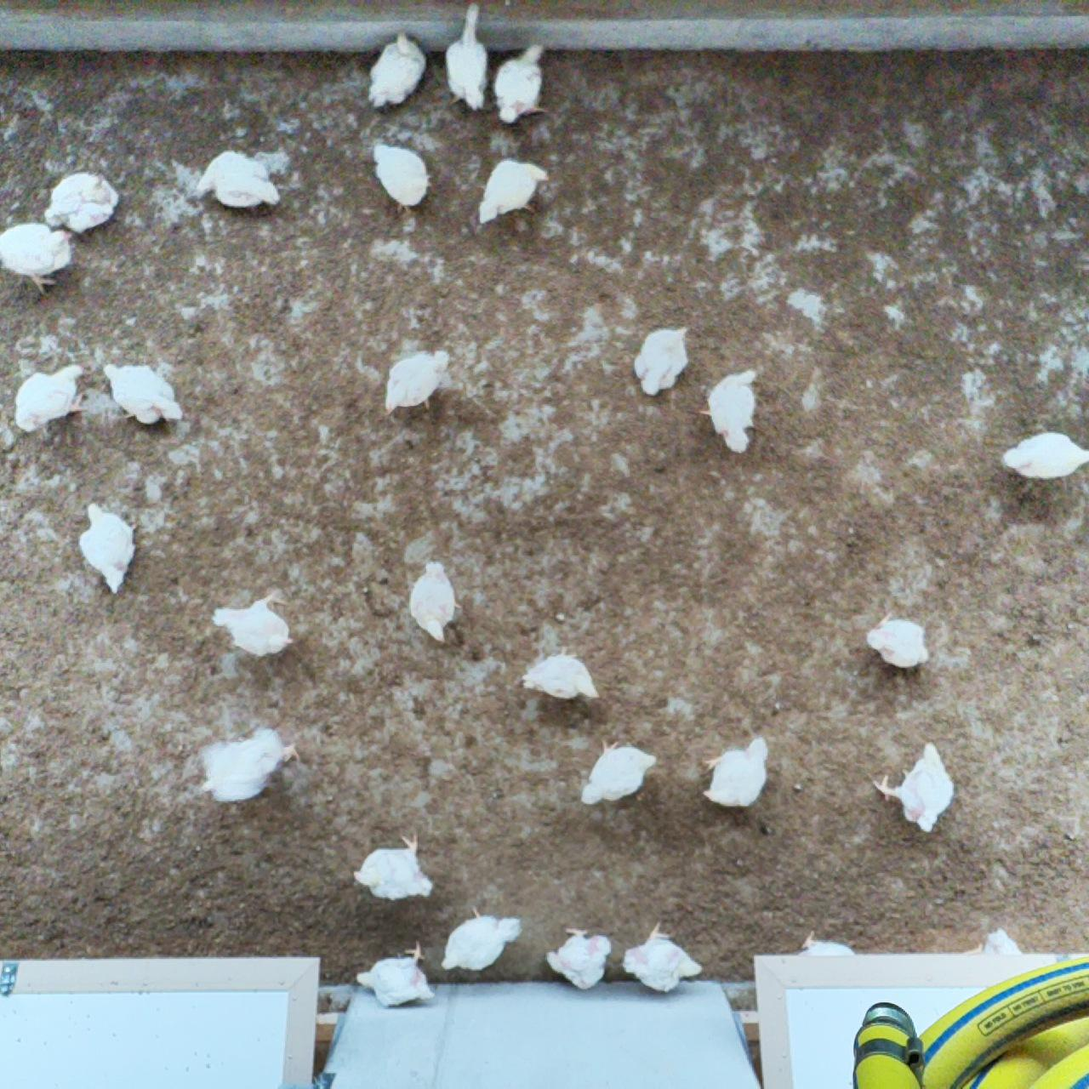chicken: (196, 720, 304, 807), (868, 735, 961, 836), (208, 584, 305, 661), (76, 499, 147, 598), (348, 828, 437, 905), (620, 918, 706, 996), (99, 356, 186, 430), (438, 903, 527, 975), (0, 220, 78, 302), (577, 735, 659, 812), (352, 935, 435, 1010), (192, 145, 282, 213), (700, 731, 773, 813), (699, 364, 764, 456), (442, 0, 493, 117), (365, 25, 432, 114), (11, 361, 90, 436), (492, 38, 555, 129), (382, 344, 458, 419), (476, 154, 552, 229), (369, 138, 438, 220), (404, 555, 464, 648), (543, 922, 614, 997), (40, 170, 121, 235), (517, 644, 602, 704), (630, 322, 696, 399), (1001, 429, 1089, 483), (862, 609, 936, 673), (961, 923, 1018, 962), (796, 927, 855, 961)
